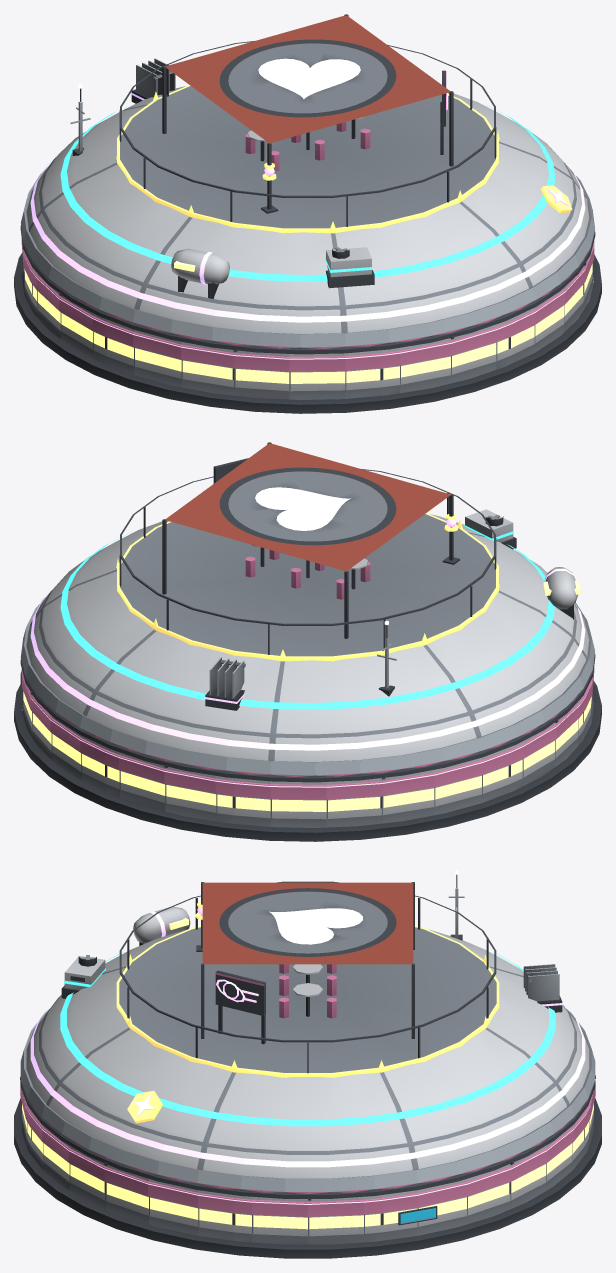
Rendered from cantina_m.glb.
3 renders of one model, top to bottom at view 1: azimuth 30°, elevation 25°; view 2: azimuth 150°, elevation 25°; view 3: azimuth 270°, elevation 25°, orthographic.
Parts seen in each view (by area): view 1: Roof, Base, L3, L5, L4, Wall_21, Wall_20, Wall_22, Wall_19, Wall_23, Wall_18, Wall_24 (+16 smaller); view 2: Roof, Base, L3, L5, L4, Wall_10, Wall_11, Wall_09, Wall_12, Wall_08, Wall_13, Wall_07 (+17 smaller); view 3: Roof, Base, L3, L5, L4, Wall_00, Wall_31, Wall_30, Wall_29, Wall_01, Wall_02, Wall_28 (+18 smaller).
Part boxes in pixels (x1,y1,x2,y2): Roof: (20, 14, 595, 354); Base: (14, 253, 601, 413); L3: (60, 104, 555, 288); L5: (116, 85, 572, 233); L4: (130, 58, 229, 298); Wall_21: (289, 353, 345, 399); Wall_20: (233, 349, 289, 399); Wall_22: (345, 348, 400, 398); Wall_19: (181, 342, 233, 395); Wall_23: (399, 338, 451, 393); Wall_18: (133, 330, 181, 387); Wall_24: (450, 324, 497, 383); Roof: (20, 442, 595, 782); Base: (14, 681, 601, 841); L3: (60, 509, 554, 709); L5: (116, 513, 499, 661); L4: (204, 567, 580, 710); Wall_10: (270, 781, 326, 827); Wall_11: (326, 778, 382, 827); Wall_09: (215, 776, 270, 826); Wall_12: (382, 770, 434, 823); Wall_08: (164, 765, 216, 821); Wall_13: (434, 758, 482, 815); Wall_07: (118, 752, 165, 811); Roof: (20, 881, 595, 1198); Base: (14, 1098, 601, 1258); L3: (60, 952, 555, 1126); L5: (116, 902, 499, 1123); L4: (133, 906, 562, 1012); Wall_00: (308, 1197, 363, 1244); Wall_31: (252, 1197, 307, 1244); Wall_30: (198, 1190, 252, 1242); Wall_29: (148, 1179, 198, 1235); Wall_01: (363, 1190, 417, 1242); Wall_02: (417, 1179, 467, 1235); Wall_28: (104, 1162, 148, 1224).
Bounding box in the file's own units: 14.75 × 5.95 × 14.75.
